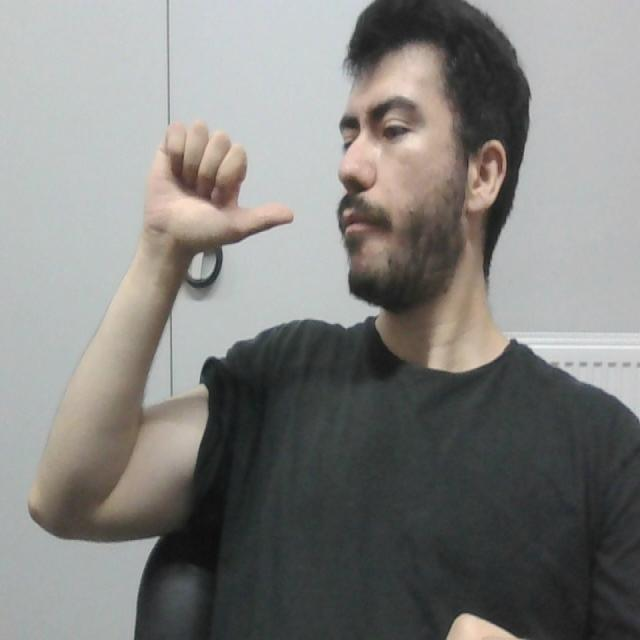icmek: (136, 115, 363, 260)
